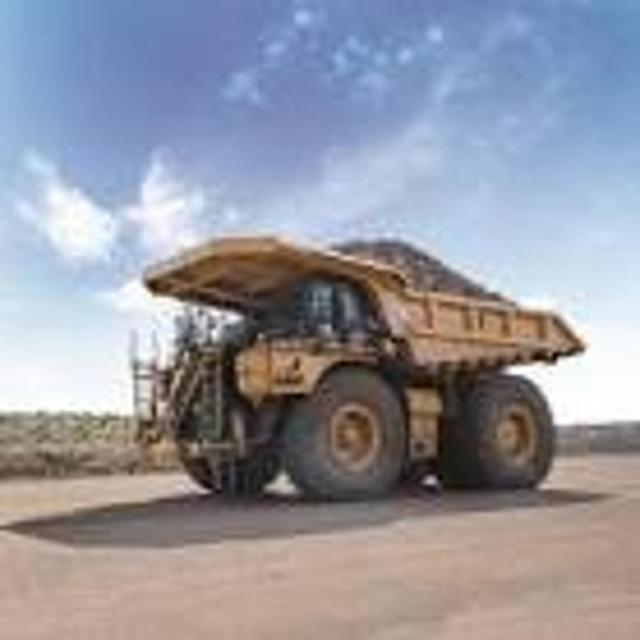dump_truck: (125, 219, 590, 516)
